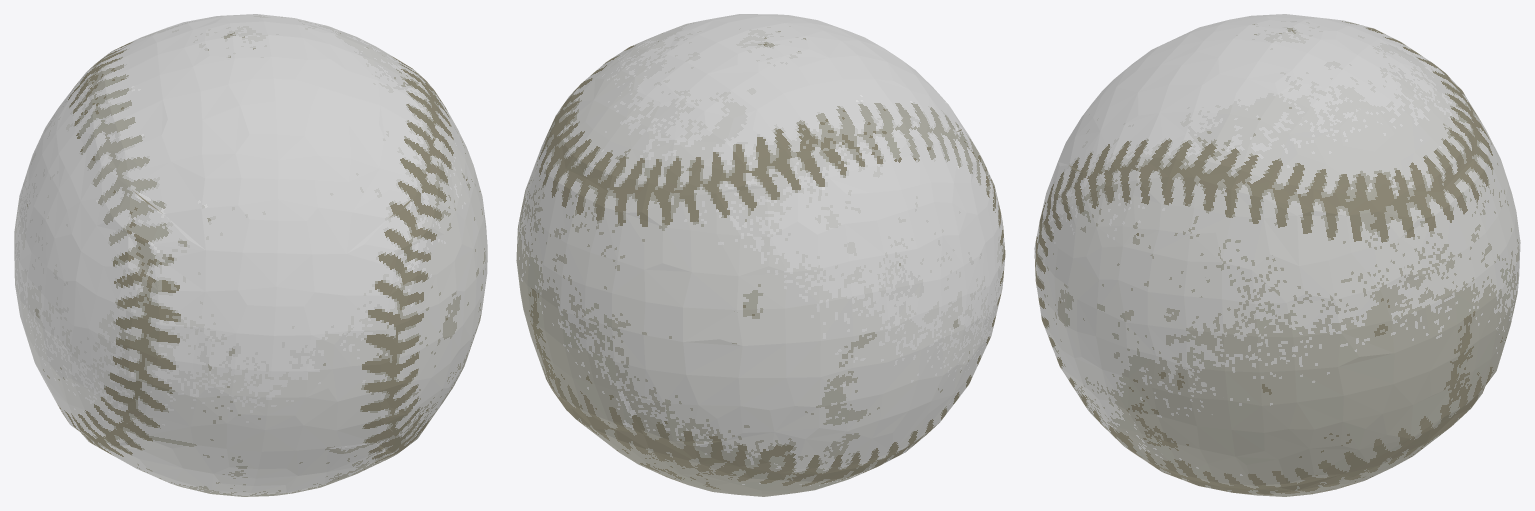
Rendered from baseball.glb.
3 renders of one model, left to right at view 1: azimuth 30°, elevation 25°; view 2: azimuth 150°, elevation 25°; view 3: azimuth 270°, elevation 25°, orthographic.
Visible parts, largest first — view 1: model_m; view 2: model_m; view 3: model_m.
Part boxes in pixels (x1=…): model_m: x1=14, y1=14, x2=487, y2=496; model_m: x1=516, y1=14, x2=1005, y2=496; model_m: x1=1034, y1=14, x2=1520, y2=496.
Bounding box in the file's own units: 27.67 × 27.91 × 28.14.
1 material, 1 textured.
